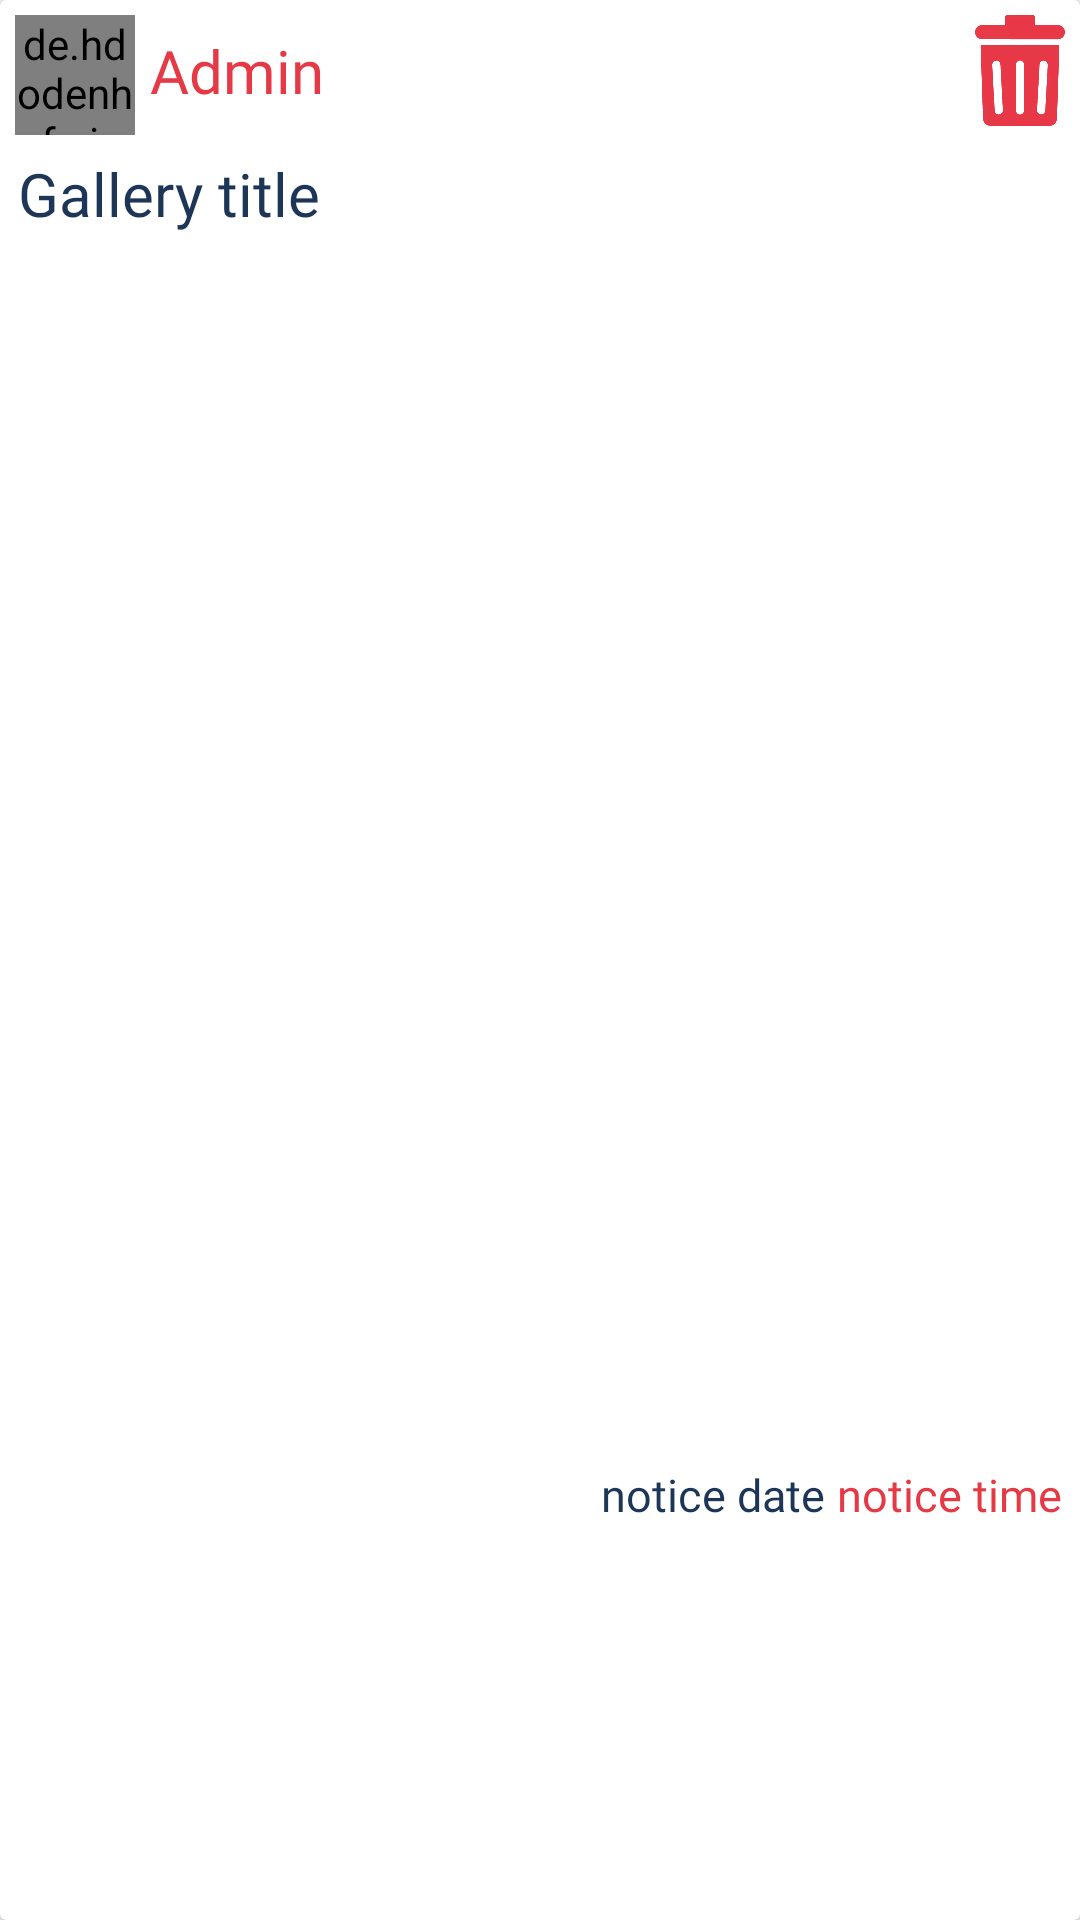

Icons on this 1080w x 1920h Android screen, each with its box as Rect(x1, y1, x2, y2):
delete: Rect(975, 15, 1065, 126)
